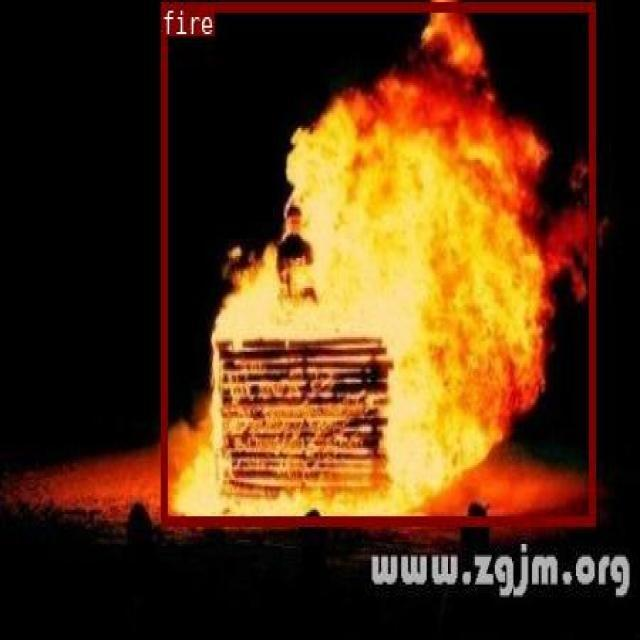fire: (160, 0, 595, 523)
